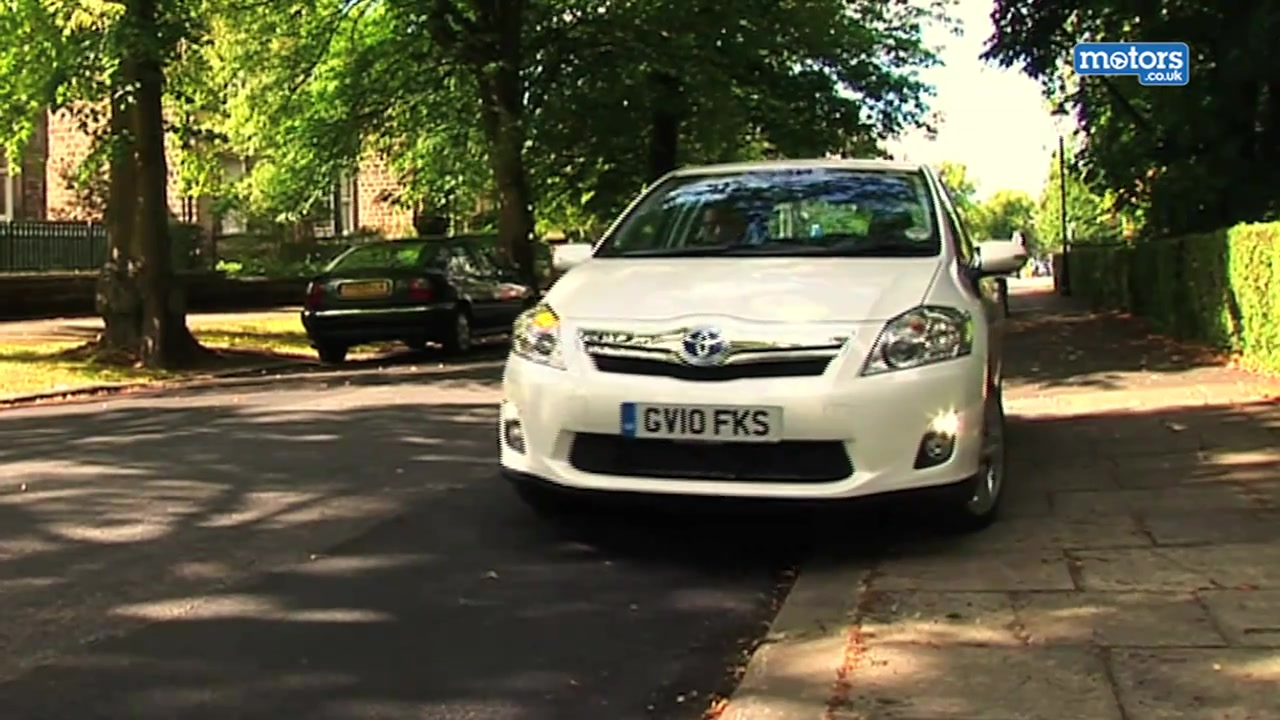car: (493, 157, 1028, 534), (298, 232, 527, 375)
